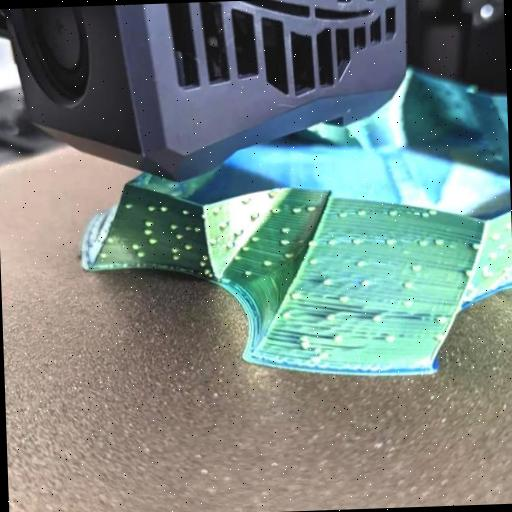blobs: (293, 332, 315, 348), (479, 262, 496, 280), (368, 311, 386, 328), (469, 239, 483, 255), (278, 223, 294, 237), (398, 278, 416, 290), (331, 330, 344, 344), (418, 207, 430, 222), (432, 333, 448, 344), (278, 236, 292, 248), (305, 237, 316, 252), (335, 293, 350, 304), (432, 314, 447, 325), (406, 262, 422, 272), (322, 238, 338, 248), (302, 203, 318, 213), (387, 206, 400, 218), (350, 235, 362, 248), (382, 334, 395, 346), (401, 298, 414, 310), (240, 268, 254, 279), (288, 289, 302, 300), (278, 308, 292, 319), (142, 217, 156, 228), (460, 267, 475, 277), (247, 234, 262, 244), (188, 226, 203, 236), (127, 240, 142, 250), (486, 251, 498, 263), (232, 226, 244, 238), (104, 236, 116, 248), (489, 230, 500, 243), (416, 238, 430, 248), (322, 313, 336, 323), (358, 277, 370, 288), (320, 276, 332, 287), (232, 250, 244, 261), (145, 202, 156, 214), (180, 222, 192, 233), (496, 242, 509, 252), (432, 236, 445, 246), (352, 259, 365, 269), (308, 256, 318, 269), (266, 188, 279, 198), (239, 242, 252, 252), (336, 209, 348, 219), (248, 210, 260, 220), (182, 204, 192, 216), (168, 245, 180, 255), (136, 248, 148, 258), (385, 237, 396, 247), (290, 205, 300, 216), (217, 219, 228, 229), (174, 230, 185, 240), (261, 258, 273, 267), (240, 196, 250, 206), (282, 251, 292, 261), (211, 207, 221, 217), (200, 250, 210, 260), (196, 258, 206, 268), (202, 267, 212, 277), (268, 208, 281, 215), (141, 228, 152, 236), (168, 222, 179, 230), (181, 242, 192, 250), (158, 204, 168, 212), (120, 201, 130, 209), (147, 237, 158, 244), (169, 254, 181, 260), (357, 209, 364, 217)
